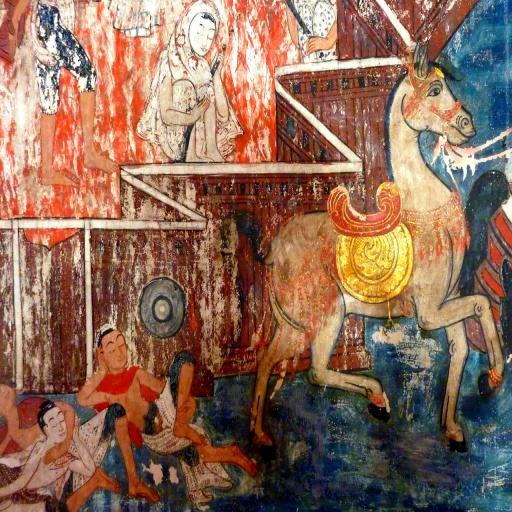Horse: (220, 34, 506, 461)
